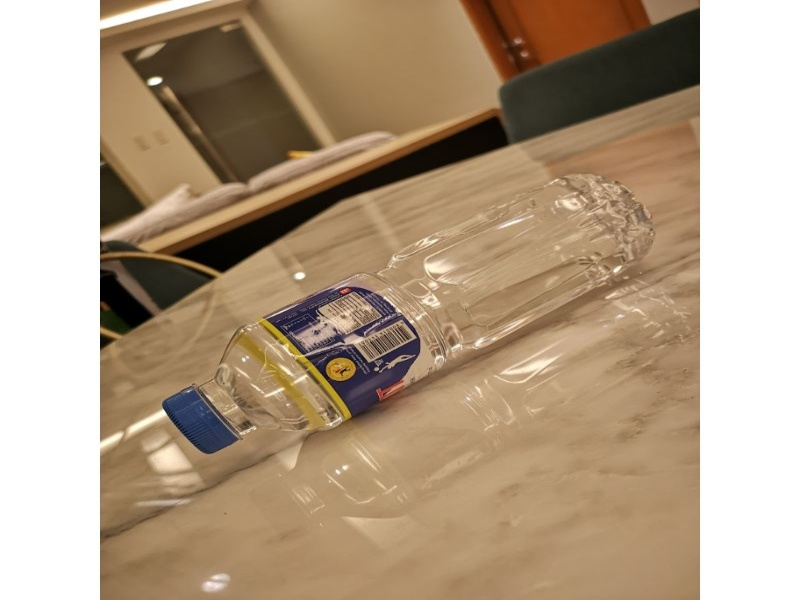PET #1: (156, 171, 658, 458)
